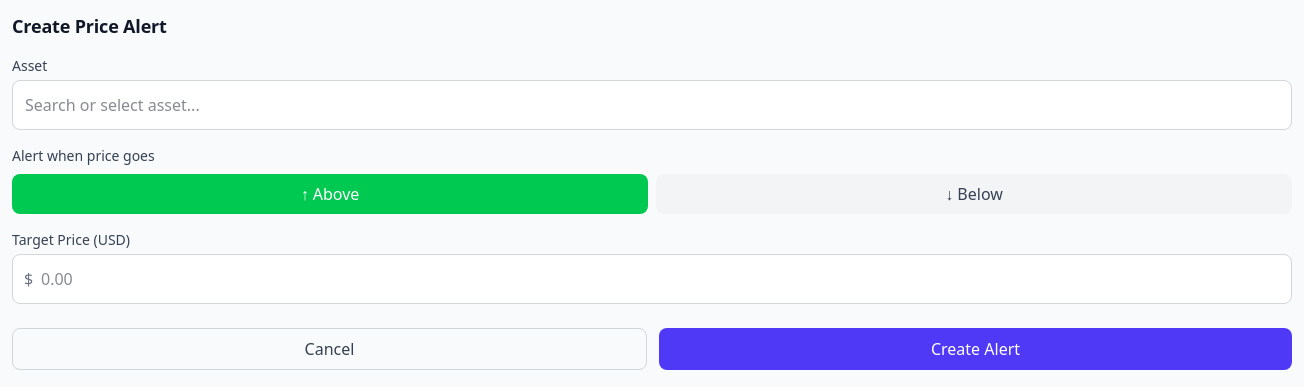
Scenario: AlertForm › shows coin search dropdown when input is focused
Focus the field with placeholder "Search or select asset...": (652,105) [12, 80, 1292, 130]
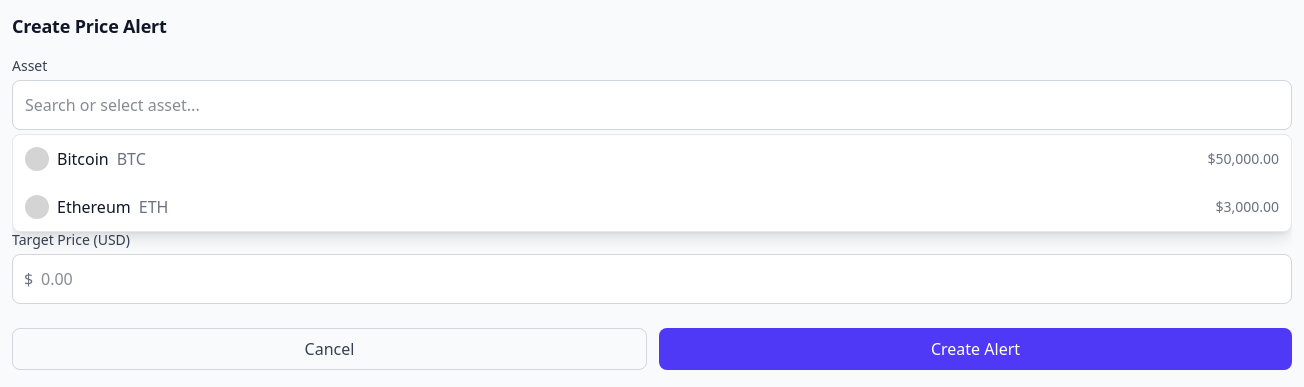
Check: the text "Bitcoin" is shown, box [57, 147, 109, 171]
Check: the text "Ethereum" is shown, box [57, 195, 131, 219]
